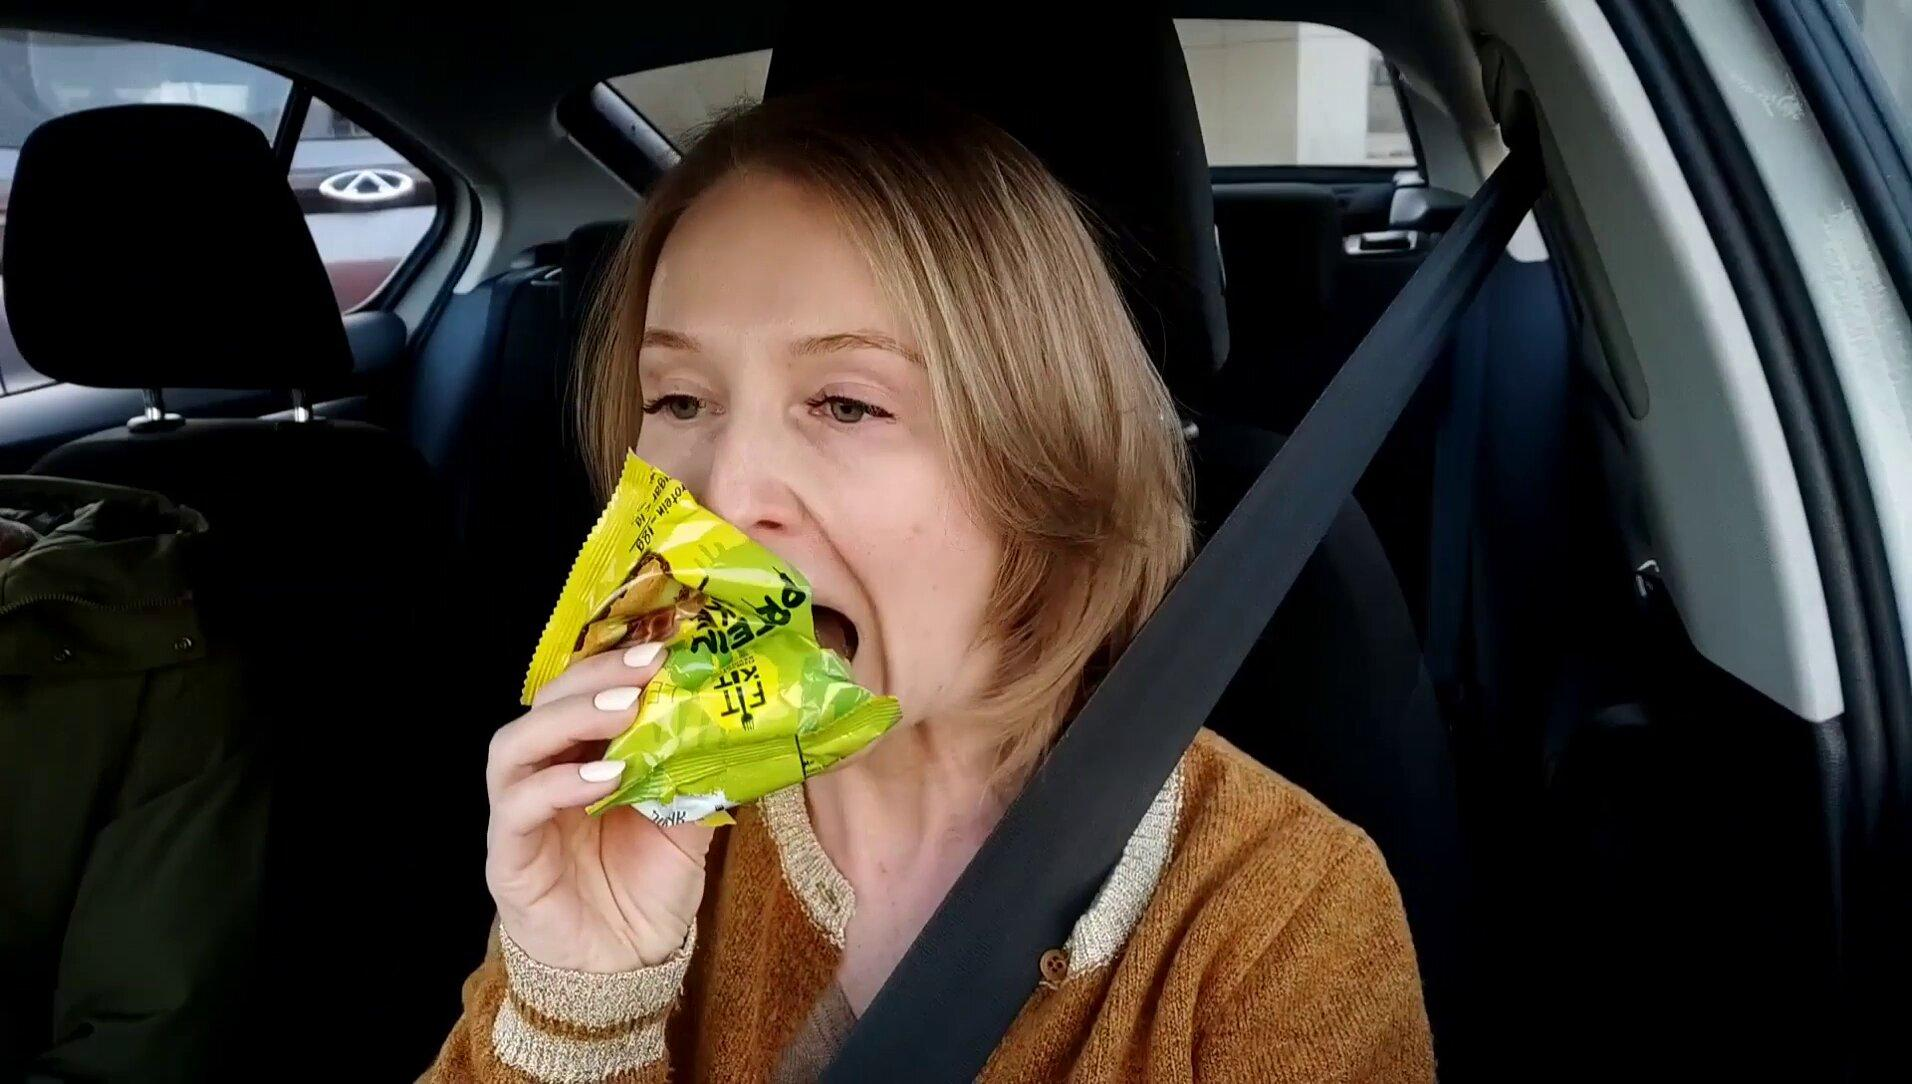Eating: (511, 449, 902, 830)
